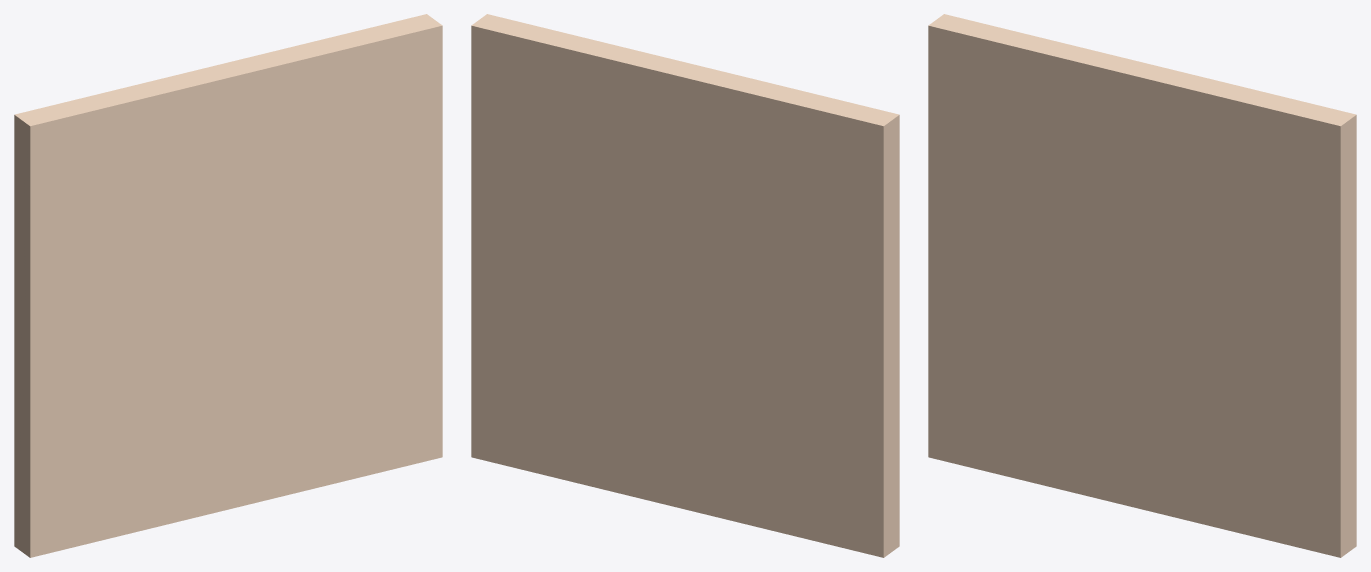
File: original-1.obj
3 renders of one model, left to right at view 1: azimuth 30°, elevation 25°; view 2: azimuth 150°, elevation 25°; view 3: azimuth 330°, elevation 25°, orthographic.
Parts seen in each view (by area): view 1: #ID2; view 2: #ID2; view 3: #ID2.
Part boxes in pixels (bbox=[...]): #ID2: bbox=[14, 14, 442, 557]; #ID2: bbox=[471, 14, 899, 557]; #ID2: bbox=[928, 14, 1356, 557].
Size of the model in its own units: 1.44 by 1.44 by 0.0958.
